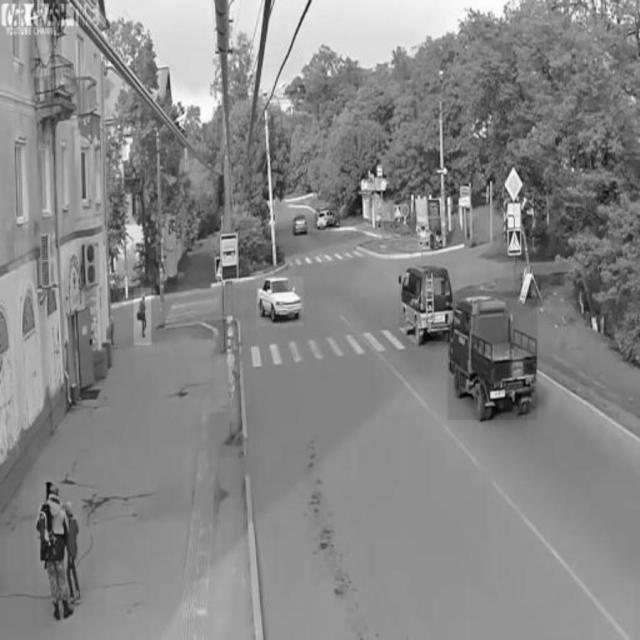person: (37, 474, 81, 624), (134, 287, 151, 345)
vehicle: (448, 291, 539, 419), (399, 262, 456, 345), (257, 277, 304, 327), (292, 211, 312, 238), (316, 209, 341, 229)
